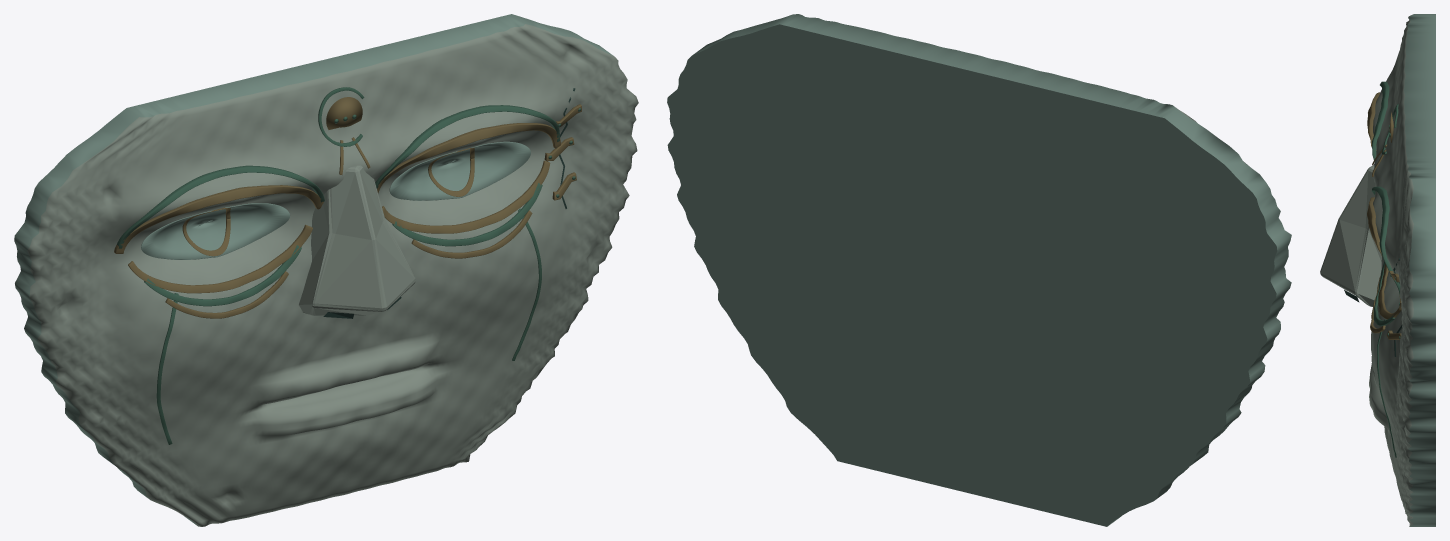
The model's file is city-face.glb.
The picture shows the model from 3 angles, left to right: view 1: azimuth 30°, elevation 25°; view 2: azimuth 150°, elevation 25°; view 3: azimuth 270°, elevation 25°; orthographic projection. The views are drawn at different scales.
Visible parts, largest first — view 1: city-face; view 2: city-face; view 3: city-face.
Part boxes in pixels (left/top/right/bottom): city-face: left=14, top=14, right=638, bottom=526; city-face: left=667, top=14, right=1291, bottom=526; city-face: left=1320, top=14, right=1435, bottom=526.
Size of the model in its own units: 7.48 by 4.95 by 1.4.
